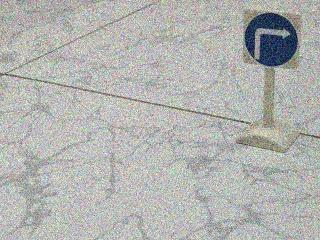right: (242, 5, 308, 76)
